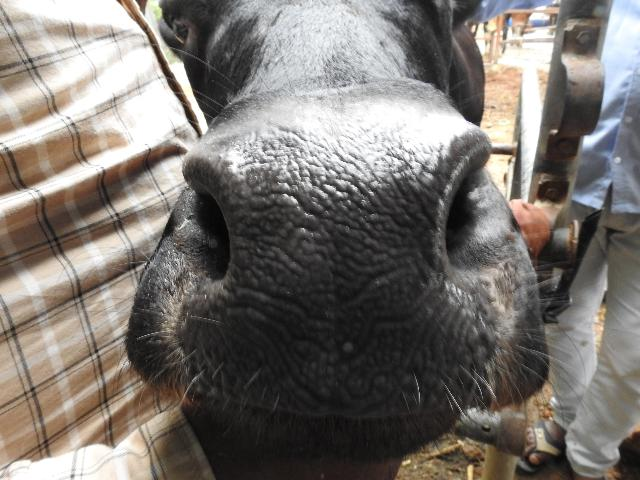Muzzle: (193, 144, 482, 418)
